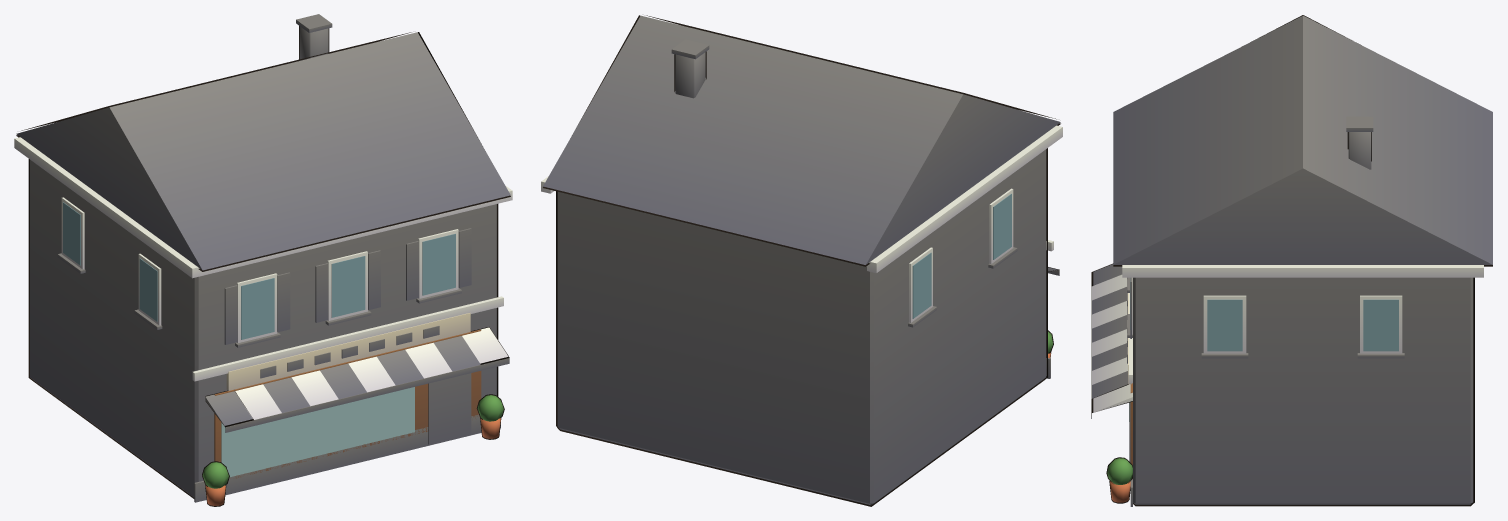
Rendered from Bina_Dukkan.fbx.
3 views of the same model, side by side, from view 1: azimuth 30°, elevation 25°; view 2: azimuth 150°, elevation 25°; view 3: azimuth 270°, elevation 25° (orthographic). The views are drawn at different scales.
Parts seen in each view (by area): view 1: Bina_Dukkan; view 2: Bina_Dukkan; view 3: Bina_Dukkan.
Boxes of the visible parts, box(x1,y1,x2,y2) form: Bina_Dukkan: box(14, 14, 512, 506); Bina_Dukkan: box(541, 15, 1062, 506); Bina_Dukkan: box(1091, 15, 1492, 506).
Bounding box in the file's own units: 10.6 × 10.87 × 11.35.
Materials: 4 (1 with a texture image).
